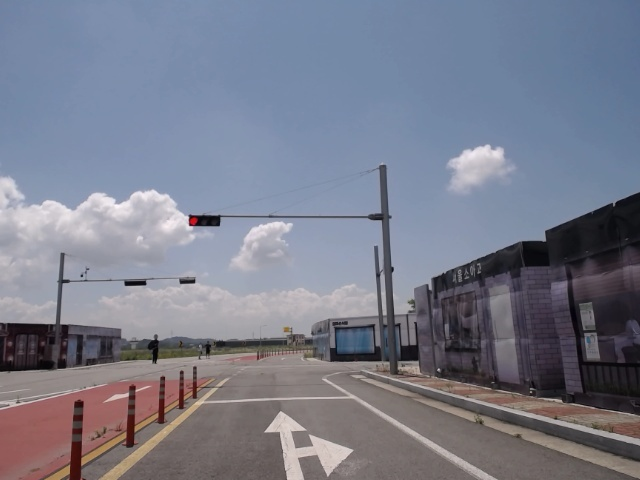red_3: (189, 216, 222, 227)
